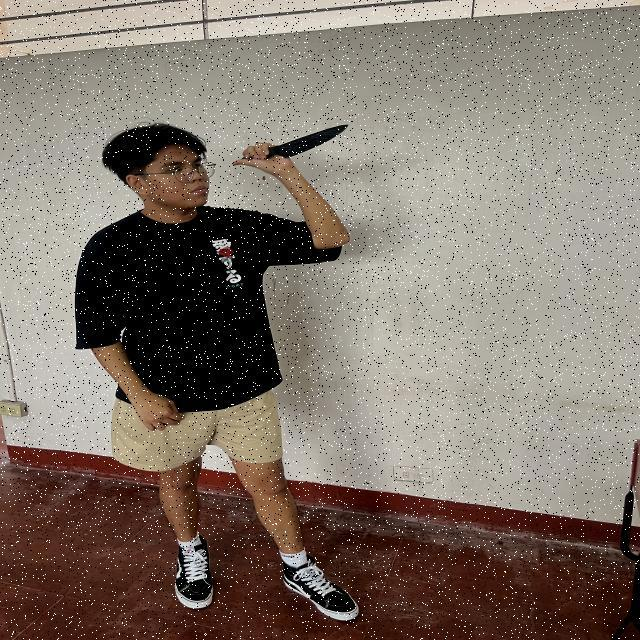knife: (267, 121, 351, 160)
non-violence: (78, 124, 358, 622)
